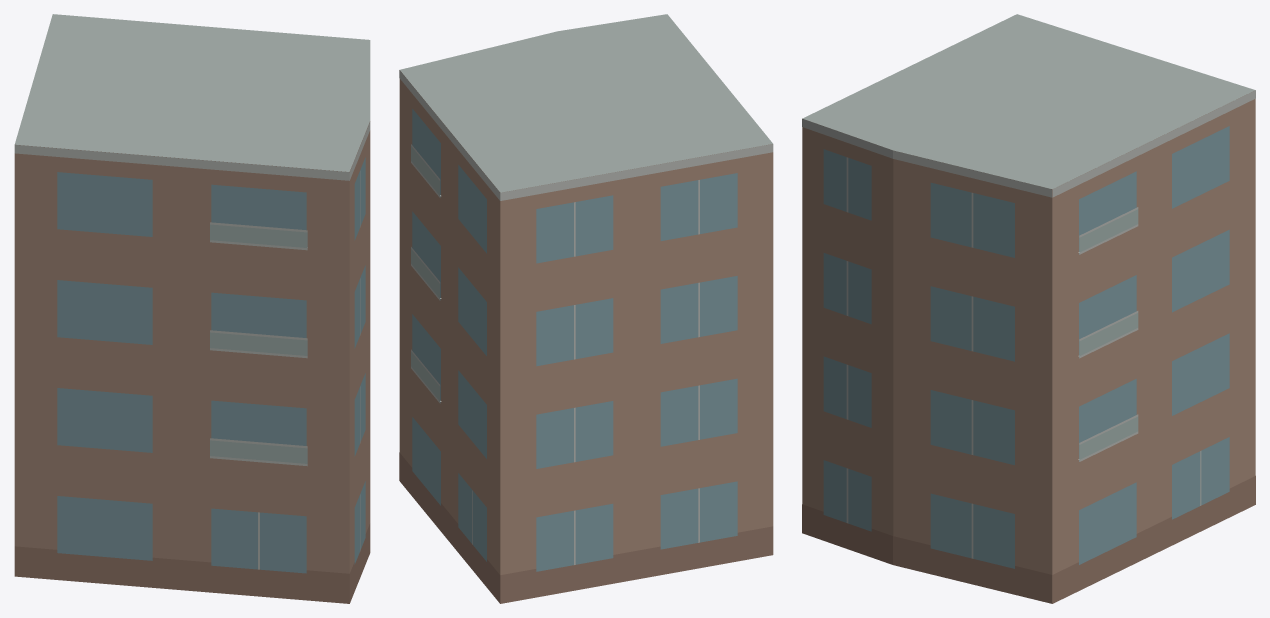
File: survey-upis-32719968.glb
3 views of the same model, side by side, from view 1: azimuth 30°, elevation 25°; view 2: azimuth 150°, elevation 25°; view 3: azimuth 270°, elevation 25° (orthographic). The views are drawn at different scales.
Parts seen in each view (by area): view 1: survey-upis-32719968.tmp; view 2: survey-upis-32719968.tmp; view 3: survey-upis-32719968.tmp.
Part boxes in pixels (x1,y1,x2,y2): survey-upis-32719968.tmp: [14, 14, 370, 603]; survey-upis-32719968.tmp: [399, 14, 773, 603]; survey-upis-32719968.tmp: [802, 14, 1255, 603].
Size of the model in its own units: 10.86 by 11.98 by 11.88.
